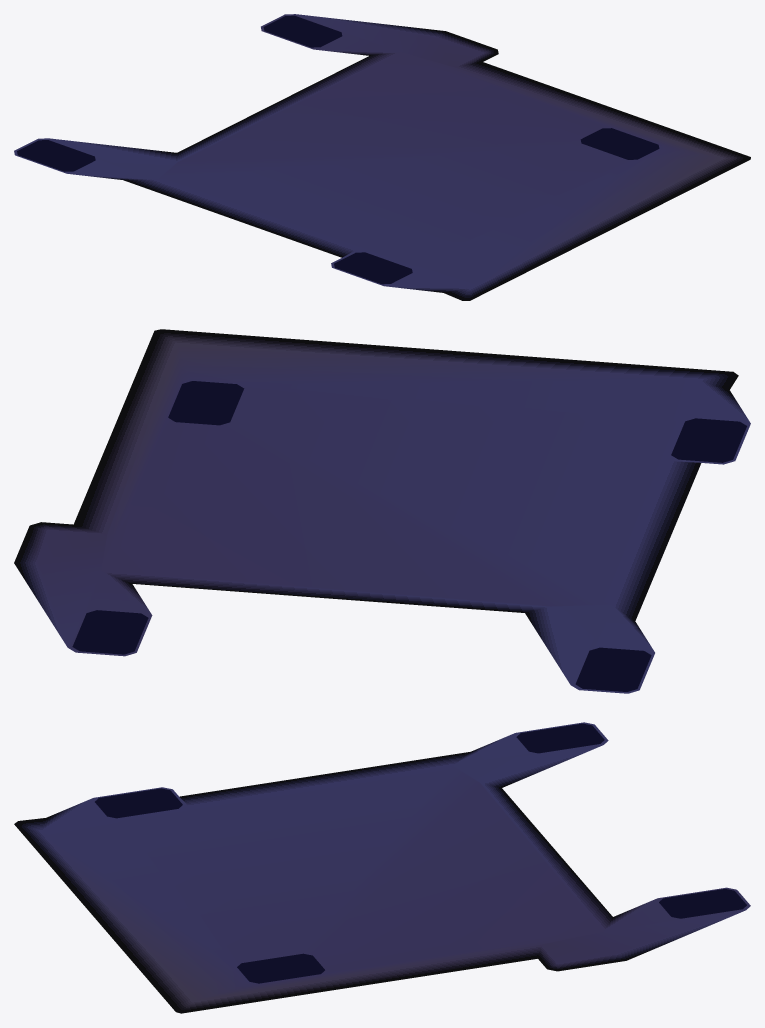
The picture shows the model from 3 angles, top to bottom: view 1: azimuth 30°, elevation 25°; view 2: azimuth 150°, elevation 25°; view 3: azimuth 270°, elevation 25°; orthographic projection. The views are drawn at different scales.
Parts seen in each view (by area): view 1: Joint_0_Object_0; view 2: Joint_0_Object_0; view 3: Joint_0_Object_0.
Boxes of the visible parts, left/top/right/bottom form: Joint_0_Object_0: left=14, top=14, right=750, bottom=300; Joint_0_Object_0: left=14, top=329, right=750, bottom=693; Joint_0_Object_0: left=14, top=722, right=750, bottom=1013.
Bounding box in the file's own units: 845 × 0 × 903.
Materials: 1 (1 with a texture image).
